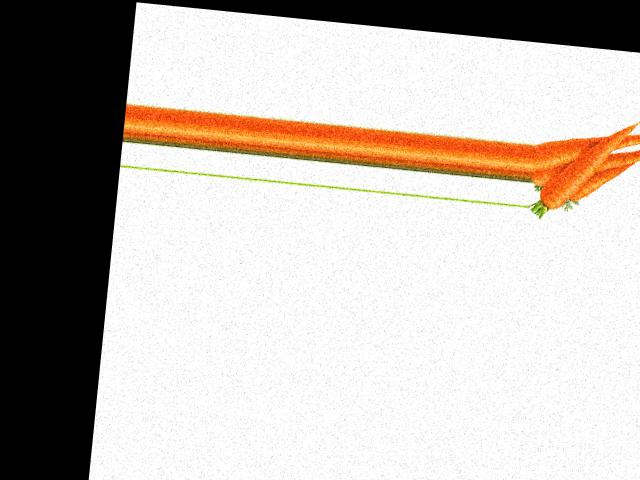carrot: (531, 136, 620, 178)
